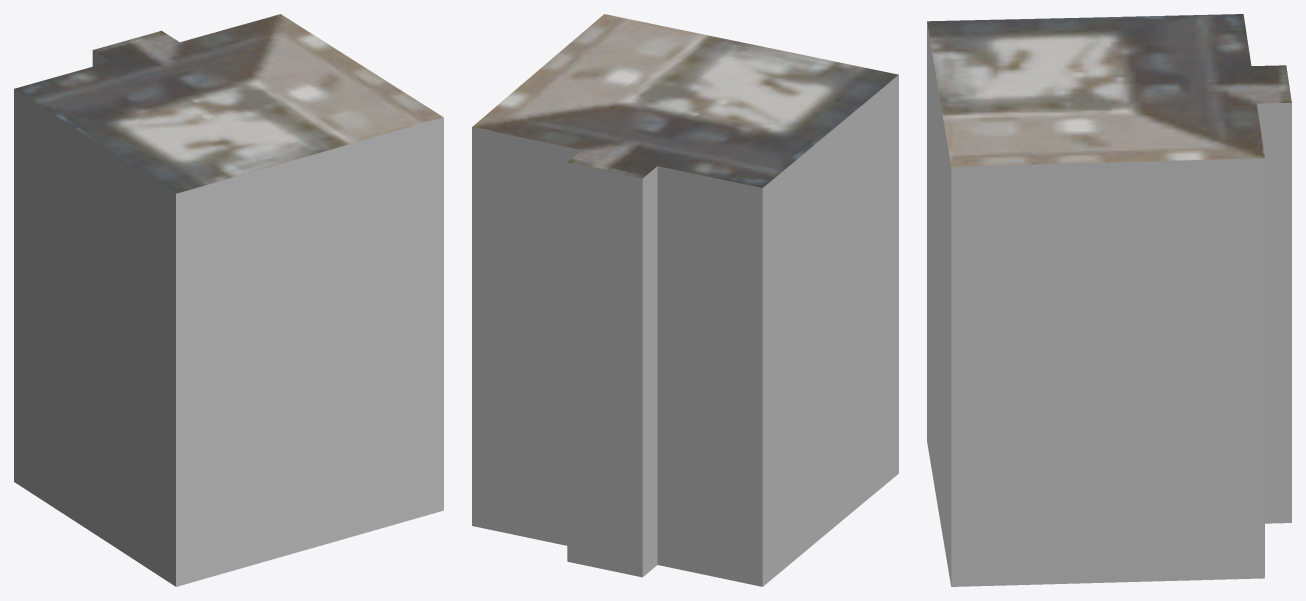
File: DEBW_0010007Tx9u.gltf
The picture shows the model from 3 angles, left to right: view 1: azimuth 30°, elevation 25°; view 2: azimuth 150°, elevation 25°; view 3: azimuth 270°, elevation 25°; orthographic projection. The views are drawn at different scales.
Parts seen in each view (by area): view 1: Z_UP; view 2: Z_UP; view 3: Z_UP.
Part boxes in pixels (x1=…): Z_UP: x1=14, y1=14, x2=443, y2=586; Z_UP: x1=472, y1=14, x2=898, y2=586; Z_UP: x1=927, y1=14, x2=1291, y2=586.
Size of the model in its own units: 12.86 by 16.49 by 12.98.
Materials: 2 (1 with a texture image).
